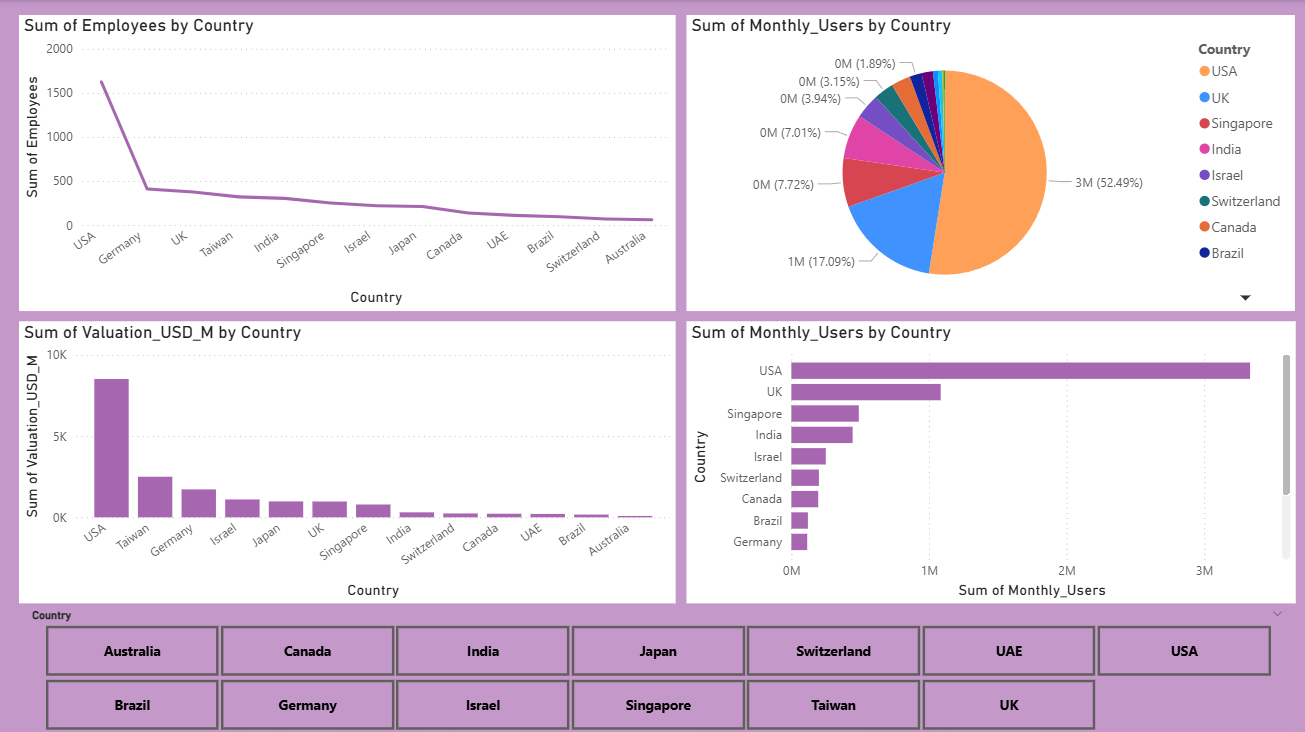

The page's visual inventory and layout, read from the dashboard file:
{"tool":"powerbi","page":{"name":"COUNTRY","canvas":[1280,720],"ordinal":1},"visuals":[{"type":"lineChart","fields":{"Category":["Sheet.Country"],"Y":["Sum(Sheet.Employees)"]},"box":[19.2,15.1,642.2,289.5],"z":0},{"type":"slicer","fields":{"Values":["Sheet.Country"]},"box":[19.2,590.1,1248.7,130.4],"z":1},{"type":"pieChart","fields":{"Category":["Sheet.Country"],"Y":["Sum(Sheet.Monthly_Users)"]},"box":[672.4,15.1,595.5,289.5],"z":2},{"type":"columnChart","fields":{"Category":["Sheet.Country"],"Y":["Sum(Sheet.Valuation_USD_M)"]},"box":[19.2,314.2,642.2,275.8],"z":3},{"type":"barChart","fields":{"Category":["Sheet.Country"],"Y":["Sum(Sheet.Monthly_Users)"]},"box":[672,314,596,276],"z":4}]}

Visuals, with their boxes in screenshot pixels (x1, y1, x2, y2), scaled from the page's 1280x720 canvas onto the 1305x732 screenshot:
lineChart - Sheet.Country x Sum(Sheet.Employees): bbox(20, 15, 674, 310)
slicer - Sheet.Country: bbox(20, 600, 1293, 731)
pieChart - Sheet.Country x Sum(Sheet.Monthly_Users): bbox(686, 15, 1293, 310)
columnChart - Sheet.Country x Sum(Sheet.Valuation_USD_M): bbox(20, 319, 674, 600)
barChart - Sheet.Country x Sum(Sheet.Monthly_Users): bbox(685, 319, 1293, 600)
